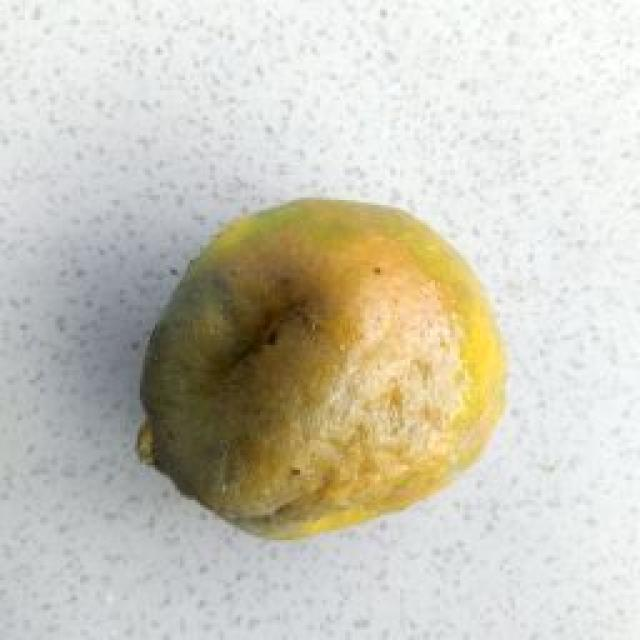Bad_Orange: (140, 199, 505, 538)
